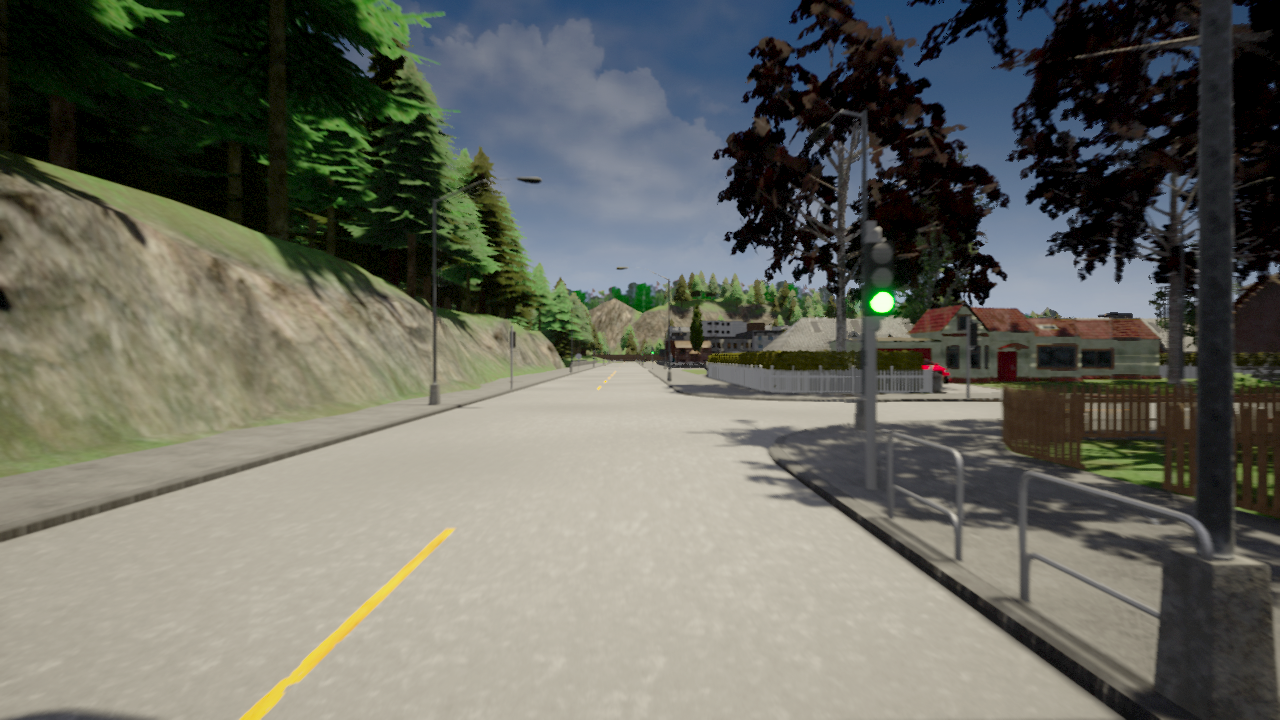green: (862, 238, 897, 312)
